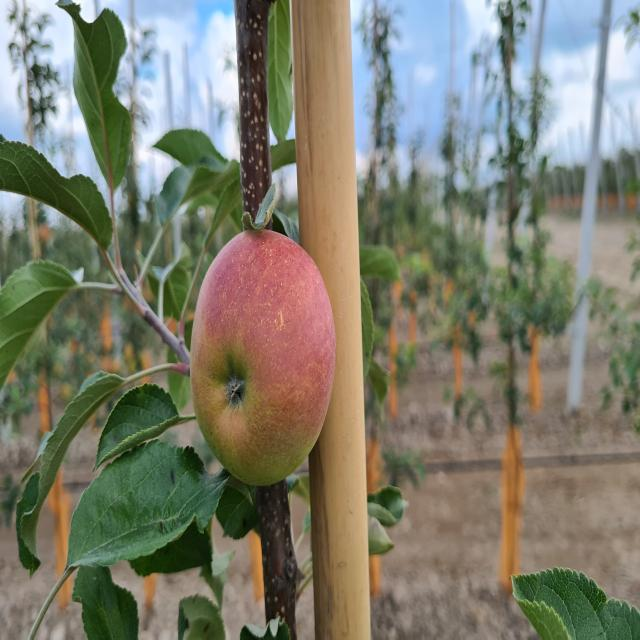Apple: (190, 229, 335, 487)
